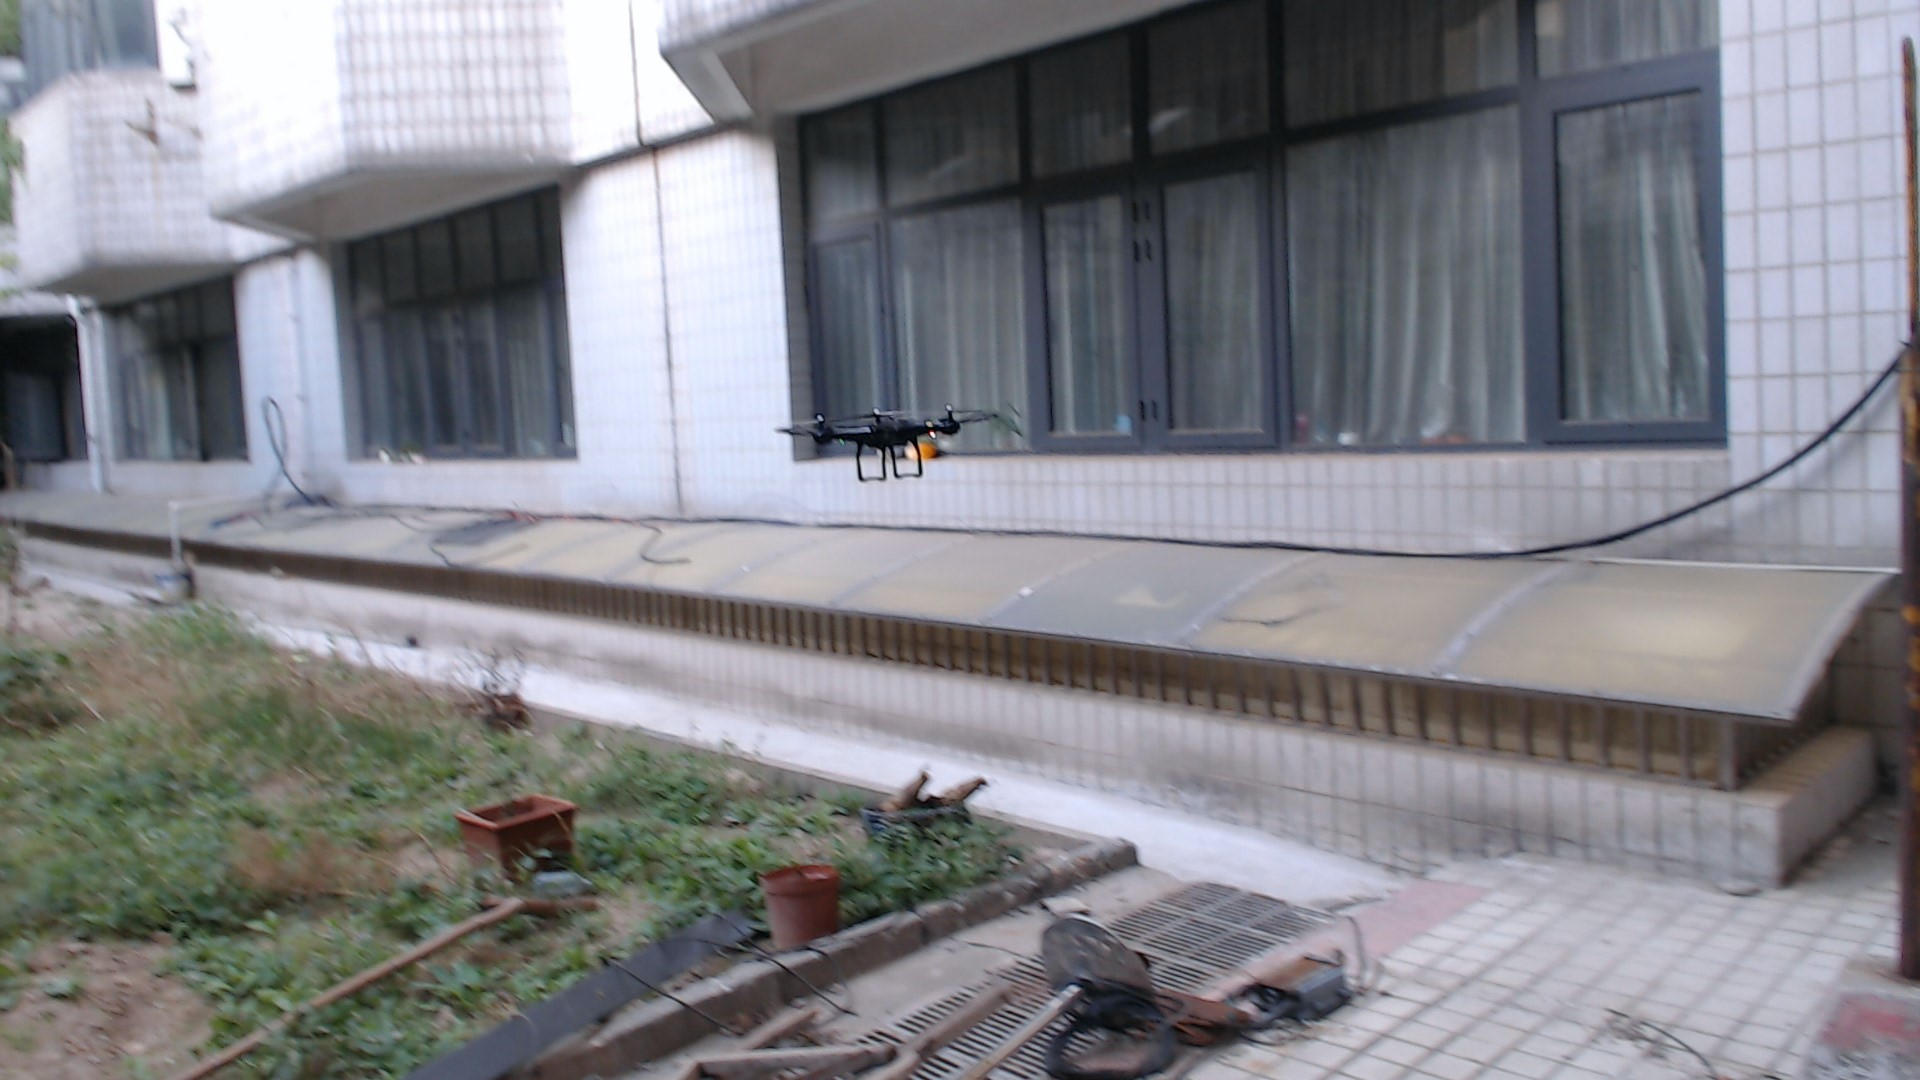drone: (744, 382, 1056, 496)
